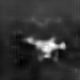plane: (20, 33, 68, 63)
